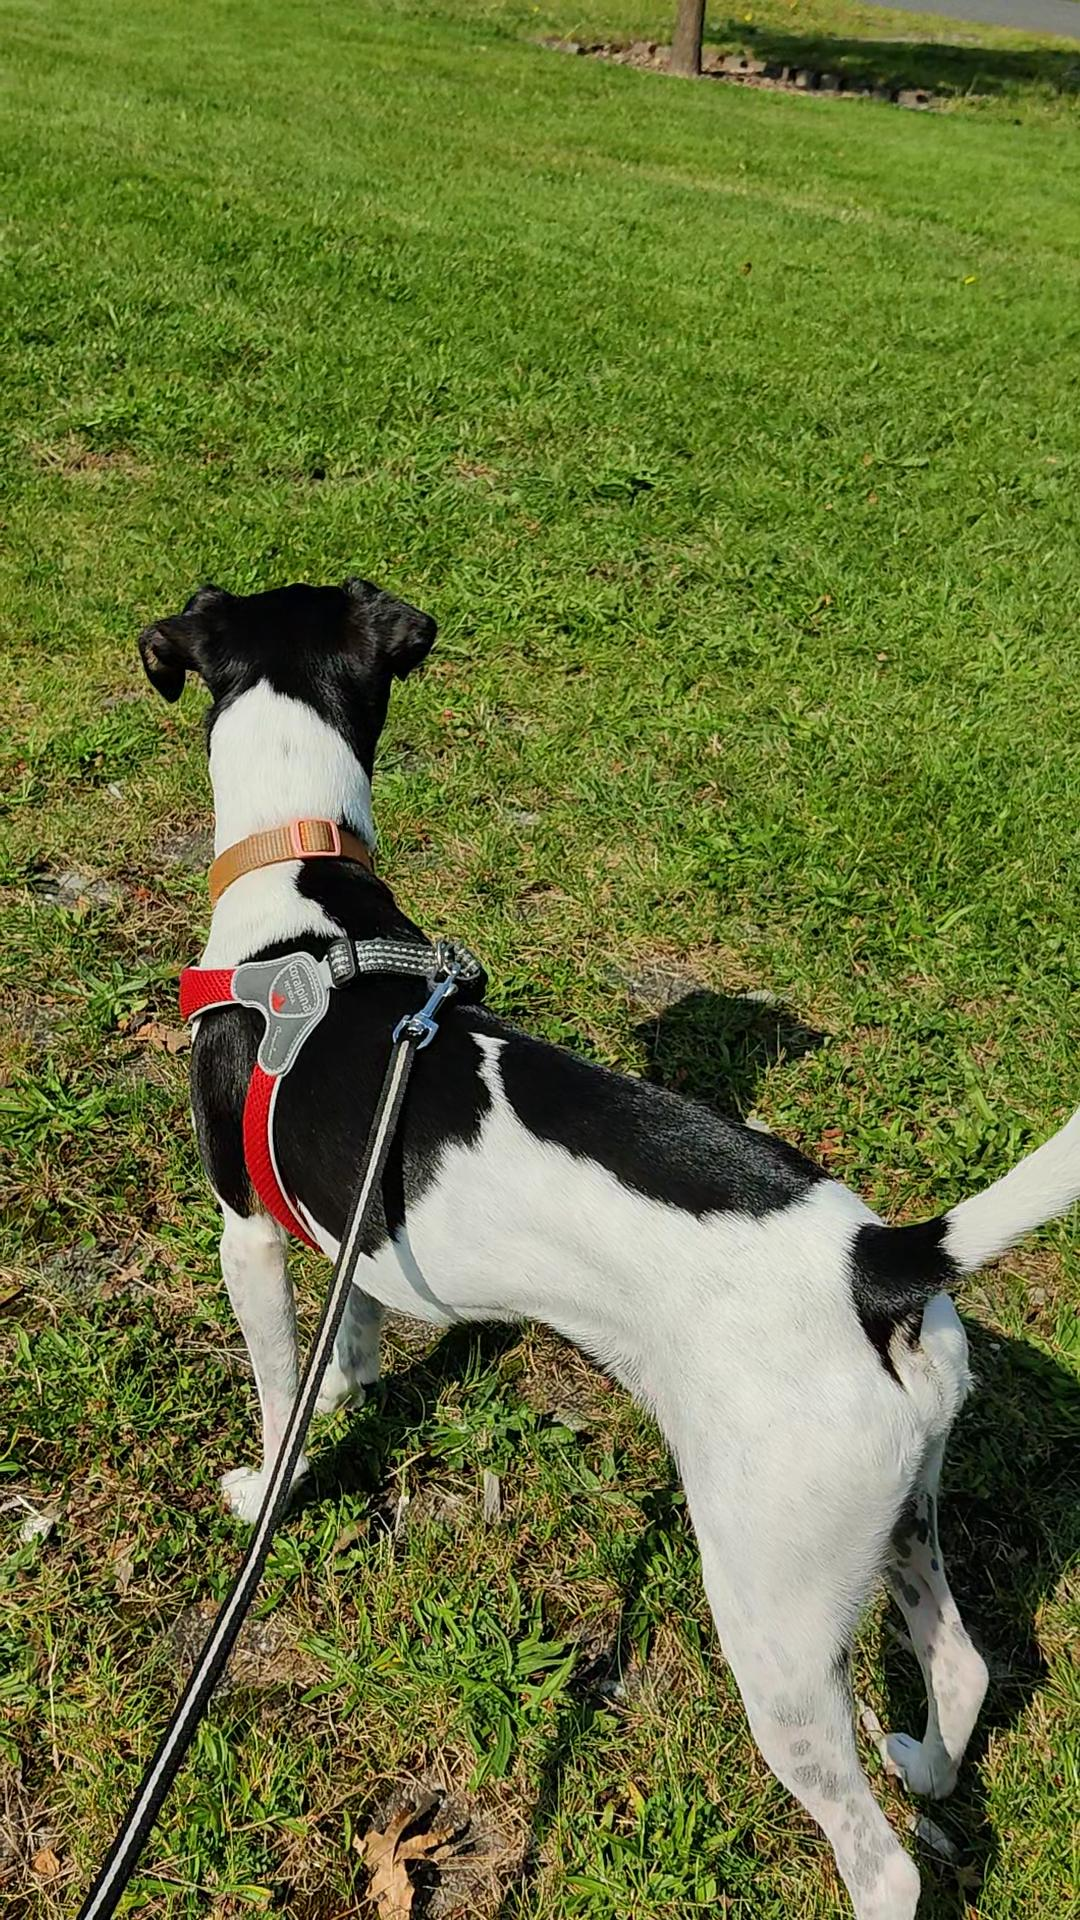Dog: (133, 571, 1079, 1919)
